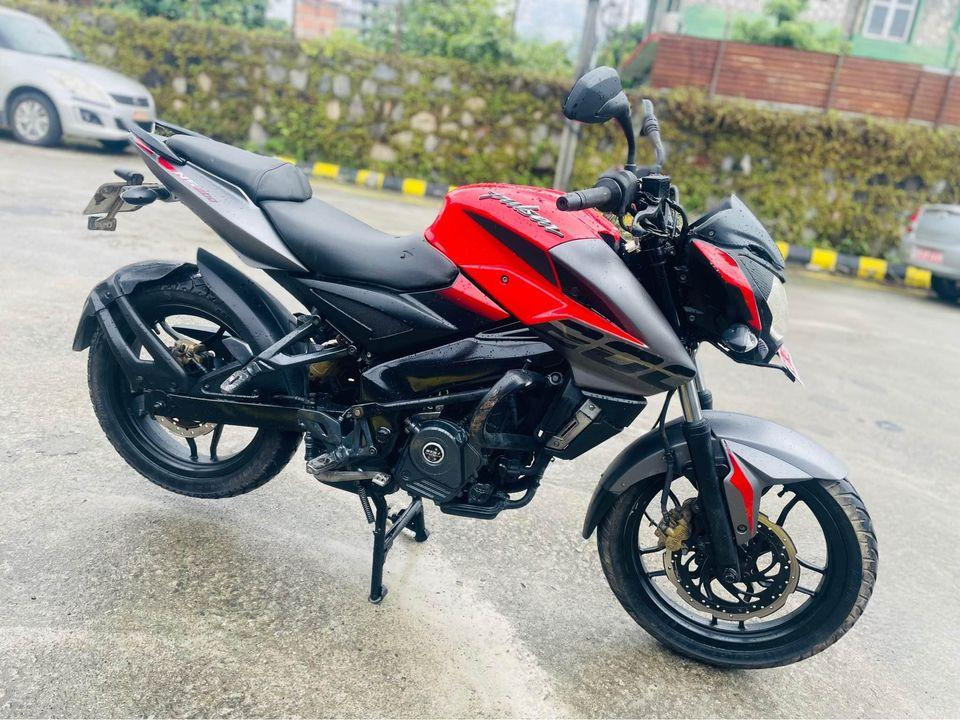bike: (66, 57, 896, 674)
